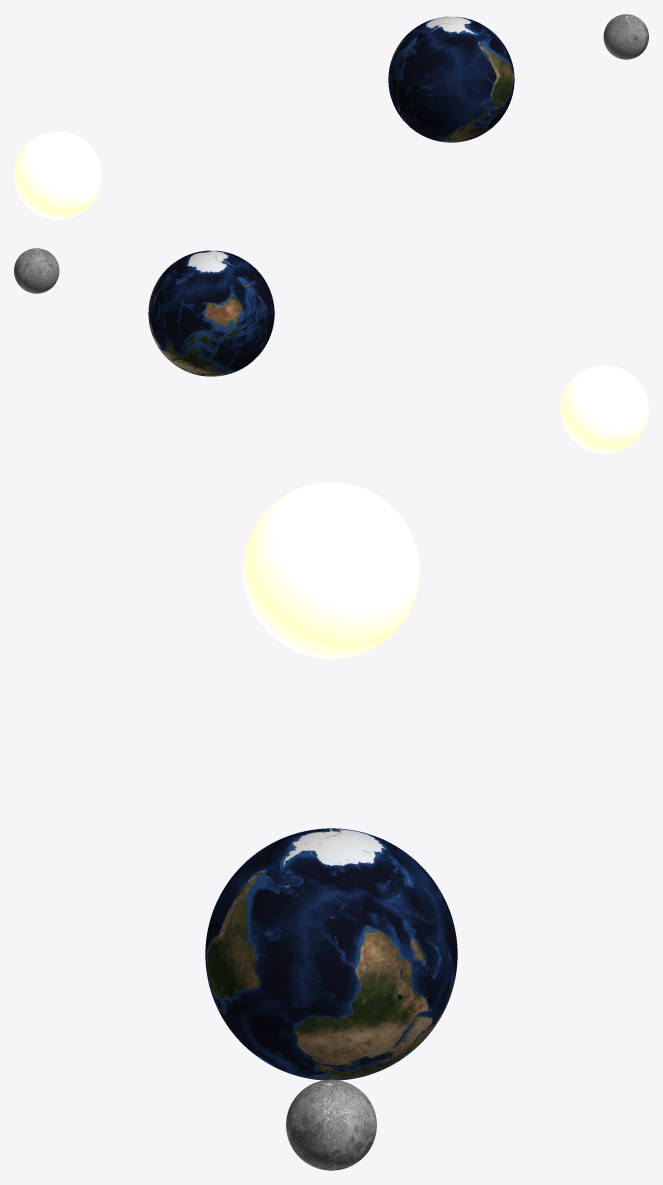
The model's file is moon-phases.glb.
3 renders of one model, top to bottom at view 1: azimuth 30°, elevation 25°; view 2: azimuth 150°, elevation 25°; view 3: azimuth 270°, elevation 25°, orthographic. The views are drawn at different scales.
Parts seen in each view (by area): view 1: Moon_Earth, Moon_Sun, Moon_Moon; view 2: Moon_Earth, Moon_Sun, Moon_Moon; view 3: Moon_Earth, Moon_Sun, Moon_Moon.
Part boxes in pixels (bbox=[...]): Moon_Earth: bbox=[388, 16, 514, 142]; Moon_Sun: bbox=[14, 131, 102, 219]; Moon_Moon: bbox=[603, 14, 648, 59]; Moon_Earth: bbox=[148, 250, 274, 376]; Moon_Sun: bbox=[560, 365, 648, 453]; Moon_Moon: bbox=[14, 248, 59, 293]; Moon_Earth: bbox=[205, 828, 457, 1080]; Moon_Sun: bbox=[243, 482, 419, 658]; Moon_Moon: bbox=[286, 1079, 376, 1170].
Size of the model in its own units: 5.73 by 1 by 1.
Materials: 3 (2 with a texture image).
